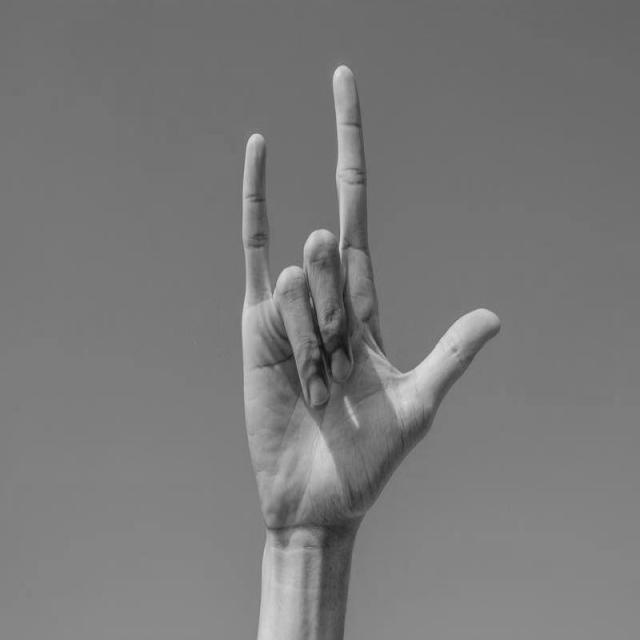i love you: (234, 59, 506, 583)
